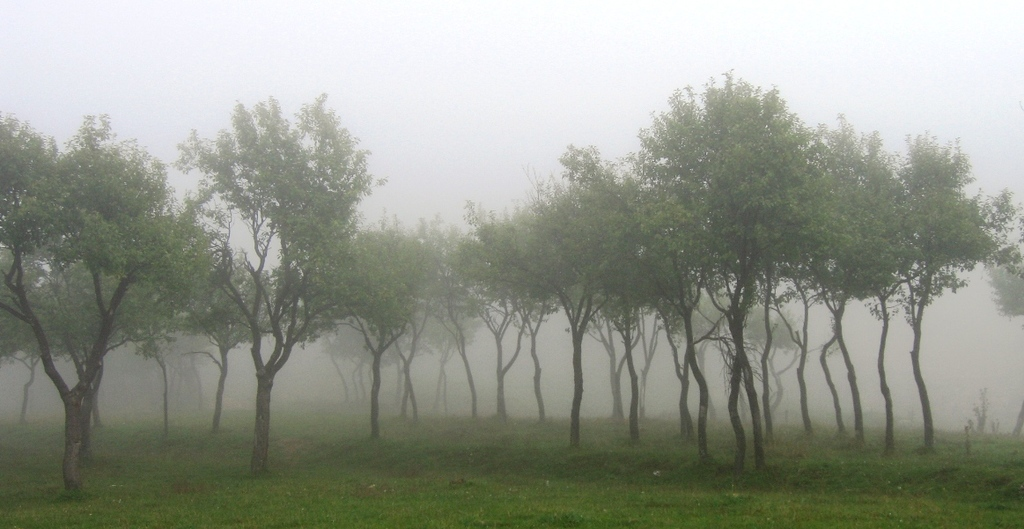Tree: (0, 66, 1023, 494)
